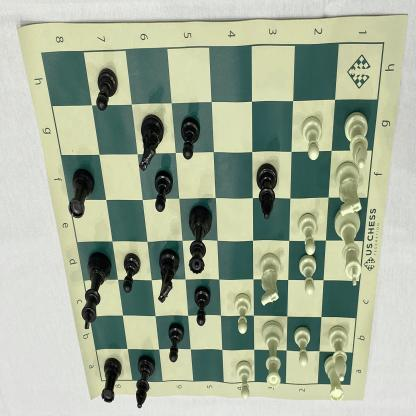black-bishop: (254, 159, 280, 221), (134, 352, 157, 409)
black-king: (78, 252, 112, 334)
black-knight: (137, 110, 165, 179), (156, 246, 182, 306)
black-pawn: (95, 66, 120, 113), (180, 113, 202, 163), (153, 169, 174, 217), (166, 319, 186, 366), (121, 250, 142, 294), (193, 285, 212, 329)
black-queen: (187, 202, 213, 280)
black-rook: (66, 162, 96, 221), (100, 354, 123, 406)
white-bishop: (341, 109, 372, 169), (326, 323, 351, 384)
white-king: (333, 205, 365, 290)
white-knight: (335, 160, 361, 218), (259, 252, 282, 307)
white-pawn: (300, 115, 326, 163), (296, 210, 320, 256), (297, 252, 318, 298), (233, 291, 254, 335), (234, 357, 254, 403), (292, 324, 312, 370)
white-queen: (260, 318, 286, 391)
white-rook: (322, 352, 346, 405)
